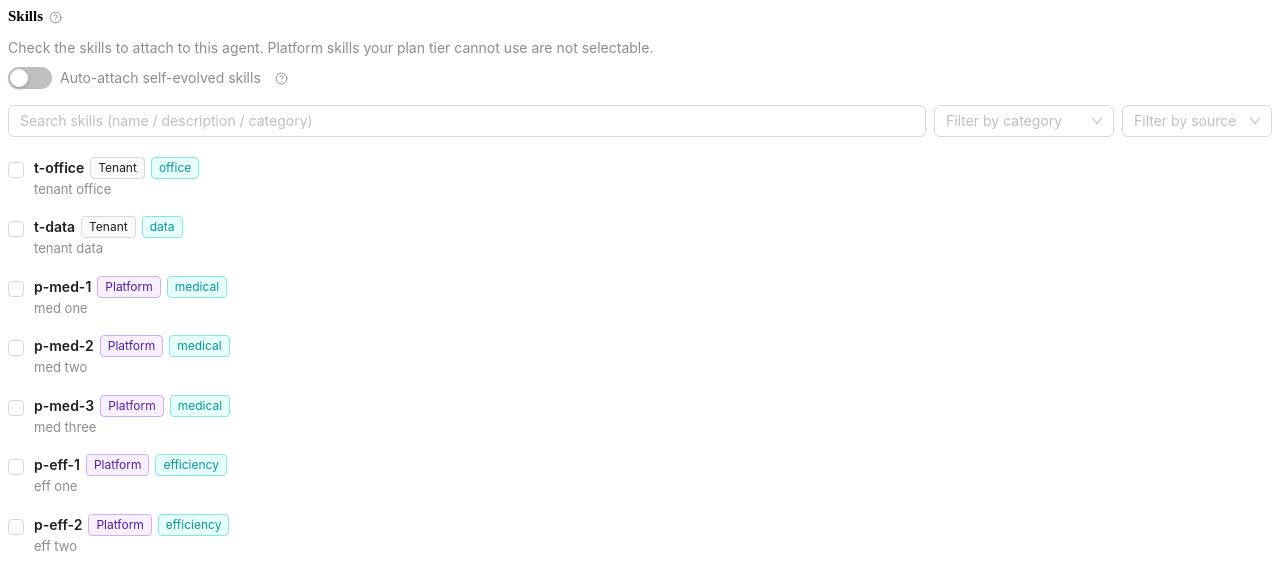
SkillPicker › category filter narrows the list to the chosen category
This screenshot has width=1280, height=568.
Expected: the element with test id "af-skill-row-p-med-1" is shown, 8,268 -> 1272,327
Click the element showing "Filter by category" at (1024, 121), box 934,105 -> 1114,137
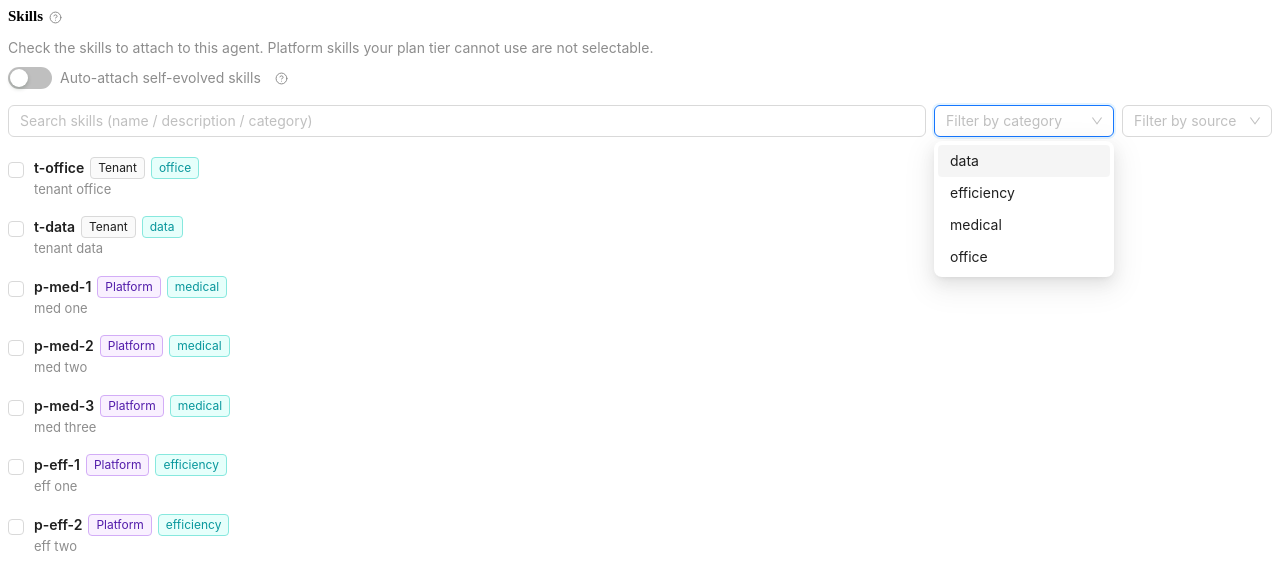
Click the 1st text "medical" at (976, 224), box 950,216 -> 1002,233
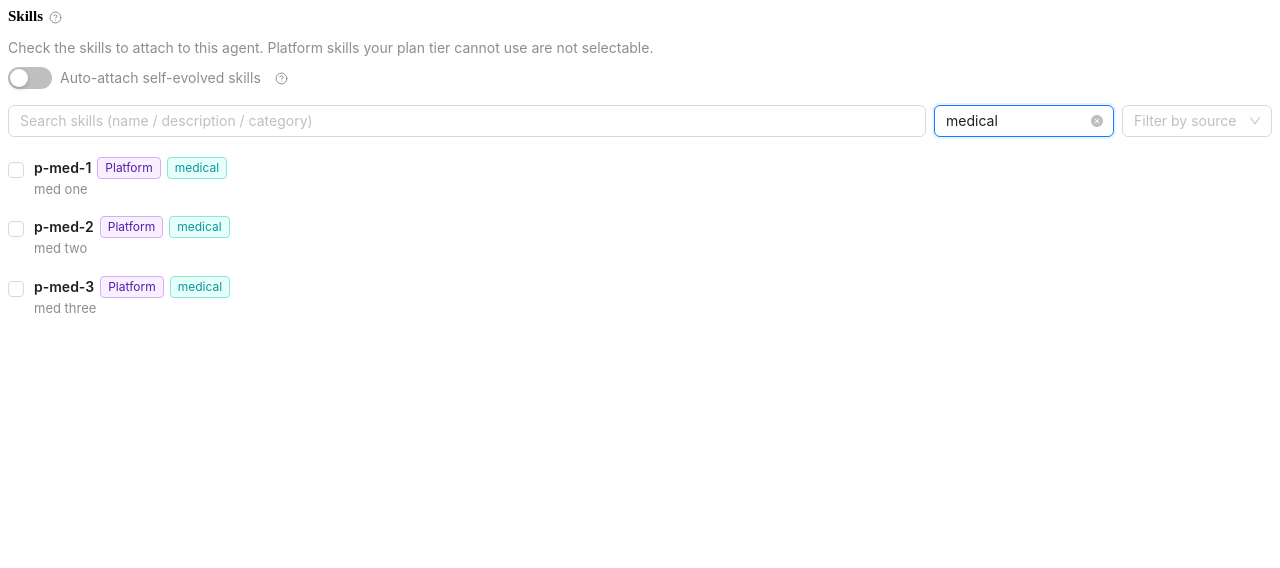
Expected: the element with test id "af-skill-row-p-med-1" is shown, 8,149 -> 1272,208
Now the element with test id "af-skill-row-t-office" is gone
Now the element with test id "af-skill-row-p-eff-1" is gone
